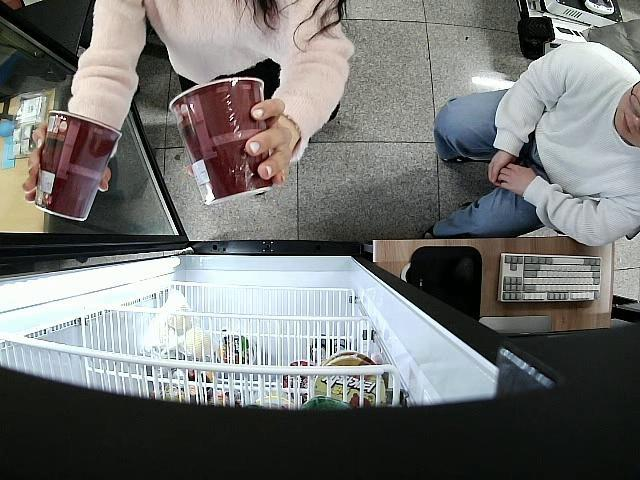06_nuguri_S: (168, 76, 276, 204), (36, 109, 121, 222)
